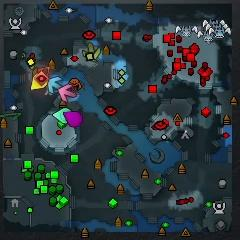Other: (34, 72, 48, 86)
p2: (52, 108, 72, 123)
p3: (63, 112, 84, 127)
p4: (30, 74, 48, 90)
p5: (37, 66, 50, 74)
x1: (59, 83, 77, 103)
x2: (82, 44, 101, 61)
x3: (49, 77, 62, 94)
x5: (33, 67, 38, 76)
